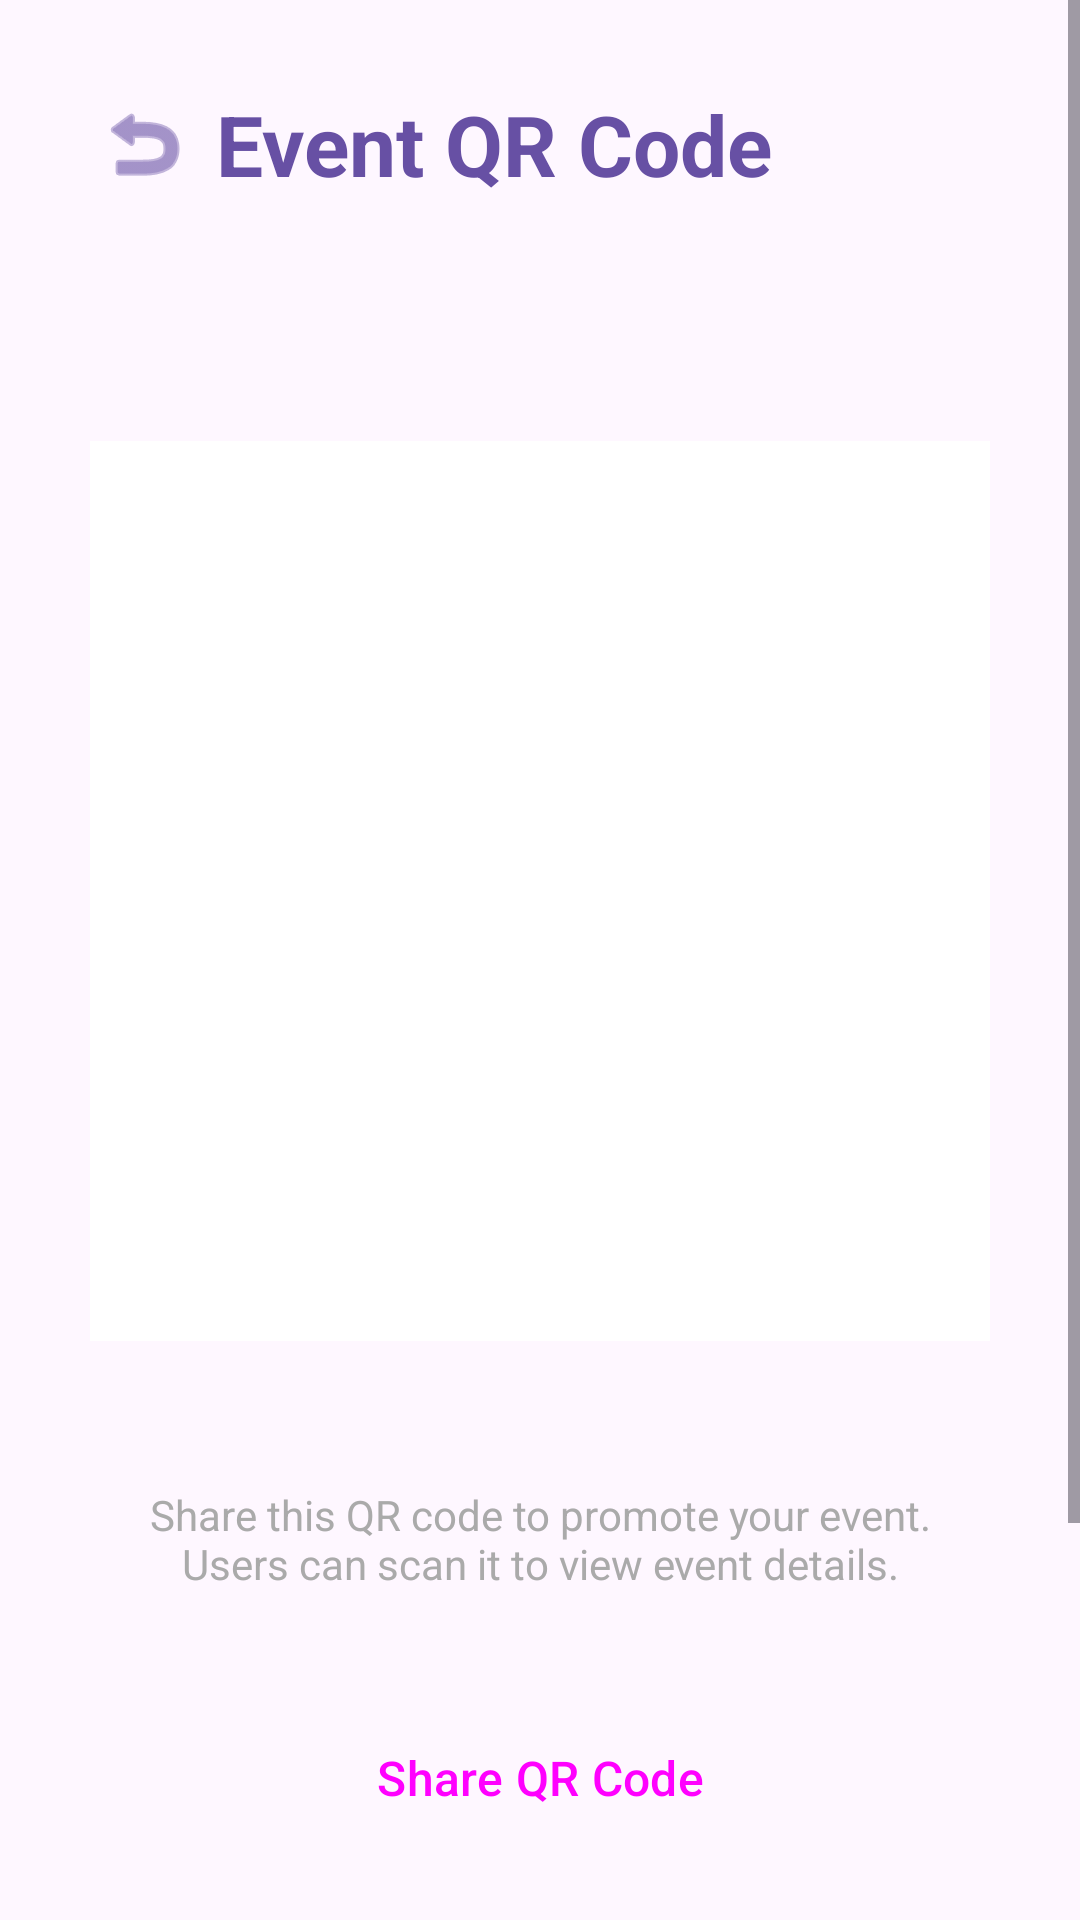

Screen size 1080x1920. Icon name, then its center in pixels as [x,y]:
Back: [145,144]
